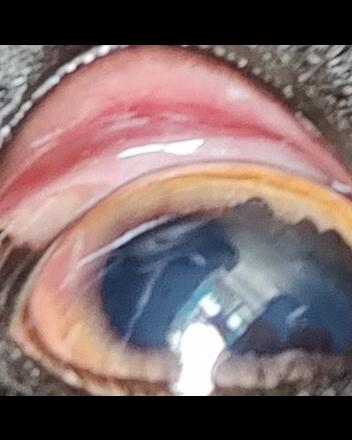eye_membrane: (0, 45, 352, 265)
